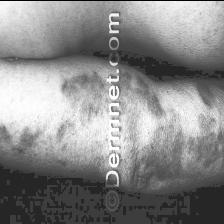Toxin: (0, 70, 106, 152), (122, 102, 224, 182), (124, 68, 146, 94)
